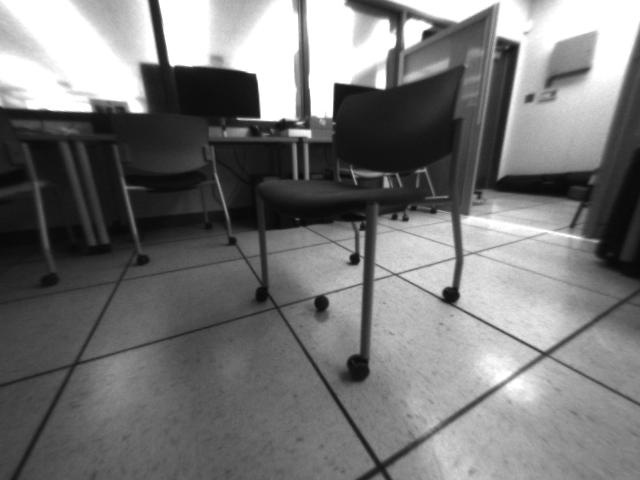dogtoy: (310, 289, 337, 316)
